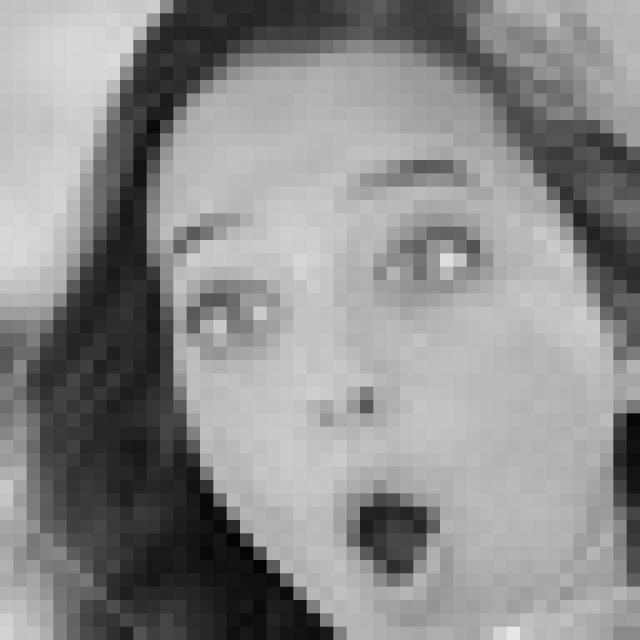surprise: (163, 145, 512, 640)
